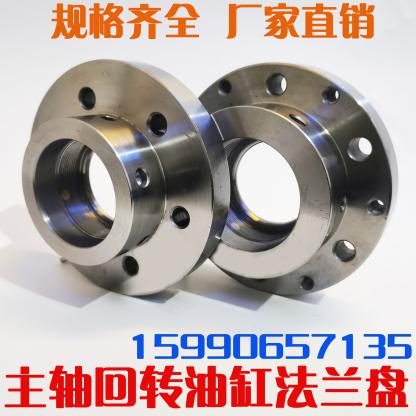FOD: (169, 57, 400, 300), (19, 52, 231, 300)
